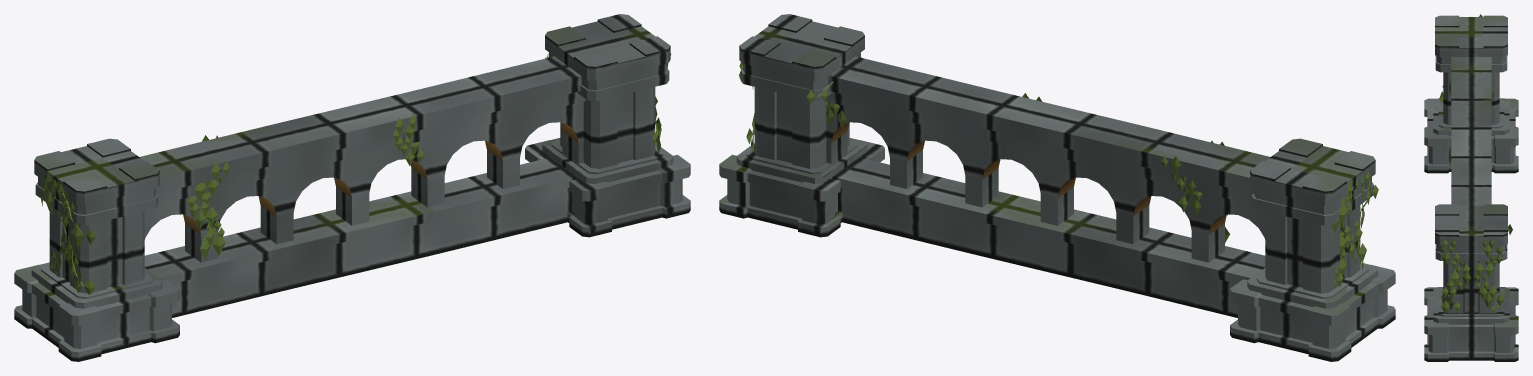
File: LowWall.fbx
3 renders of one model, left to right at view 1: azimuth 30°, elevation 25°; view 2: azimuth 150°, elevation 25°; view 3: azimuth 270°, elevation 25°, orthographic. The views are drawn at different scales.
Parts seen in each view (by area): view 1: LowWall.003; view 2: LowWall.003; view 3: LowWall.003.
Part boxes in pixels (x1,y1,x2,y2): LowWall.003: (14, 14, 690, 361); LowWall.003: (719, 14, 1395, 361); LowWall.003: (1424, 14, 1518, 361).
Size of the model in its own units: 8.96 by 2.27 by 1.57.
Materials: 4 (3 with a texture image).
